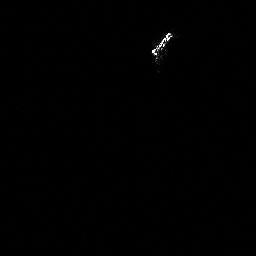ship: (148, 27, 173, 64)
